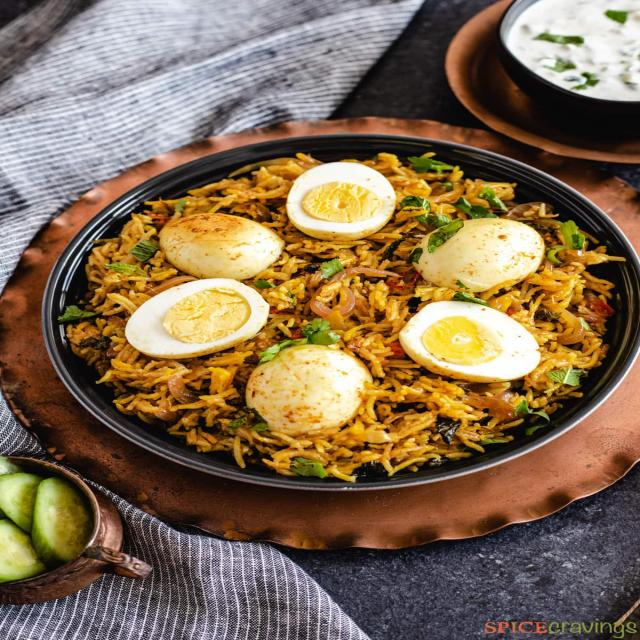chicken biryani: (119, 190, 566, 455)
